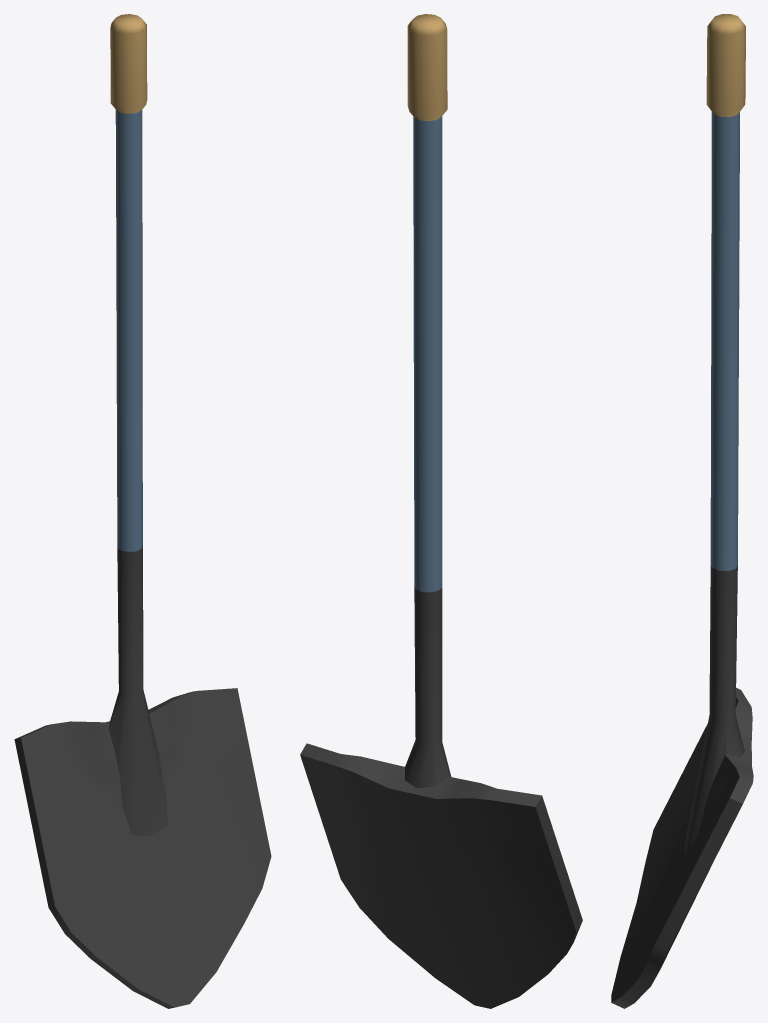
File: mesh_shovel_static.fbx
3 renders of one model, left to right at view 1: azimuth 30°, elevation 25°; view 2: azimuth 150°, elevation 25°; view 3: azimuth 270°, elevation 25°, orthographic. The views are drawn at different scales.
Parts seen in each view (by area): view 1: mesh_shovel_static; view 2: mesh_shovel_static; view 3: mesh_shovel_static.
Part boxes in pixels (box(x1,y1,x2,y2)): mesh_shovel_static: box(14, 14, 271, 1008); mesh_shovel_static: box(300, 14, 582, 1008); mesh_shovel_static: box(611, 14, 753, 1008).
Size of the model in its own units: 50.02 by 207 by 27.08.
